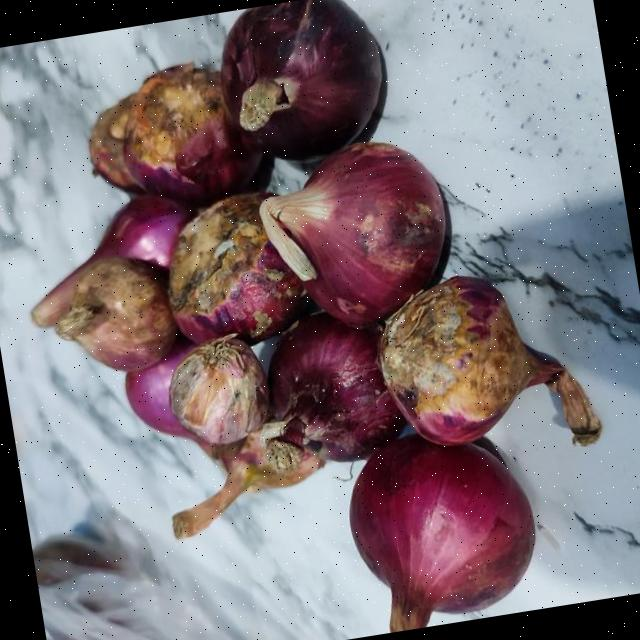Onion: (380, 276, 603, 445), (350, 434, 535, 632), (259, 140, 447, 325), (221, 0, 383, 157), (31, 193, 191, 326), (269, 311, 405, 459), (169, 192, 304, 341), (124, 61, 262, 202), (172, 429, 325, 536), (54, 255, 176, 370), (169, 333, 268, 443), (125, 336, 208, 449), (88, 91, 143, 192)
